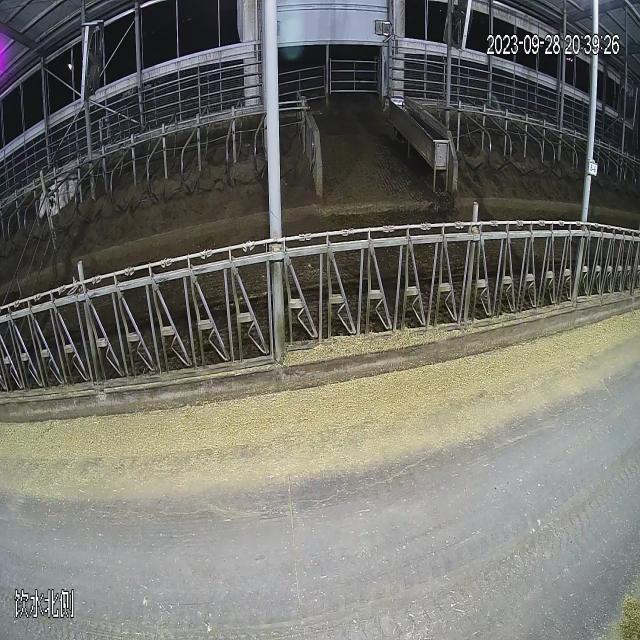lying down: (29, 140, 99, 235)
